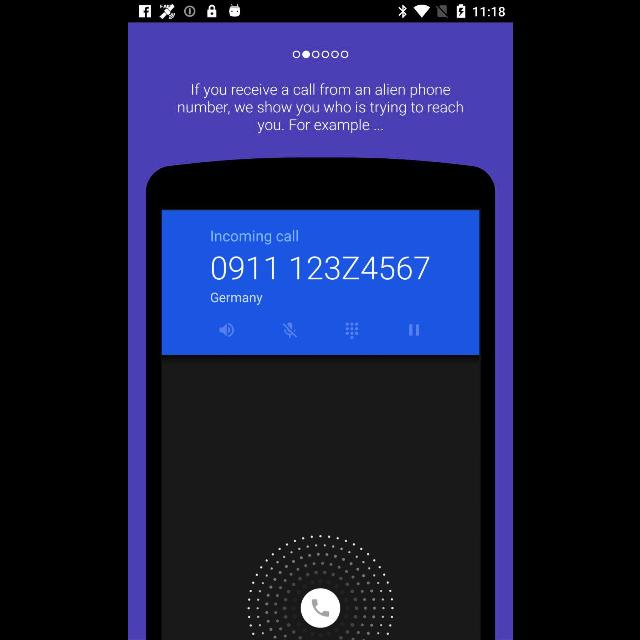image: (146, 158, 494, 640)
pageindicator: (292, 51, 348, 59)
text: (178, 83, 462, 133)
uppertaskbar: (128, 1, 512, 23)
